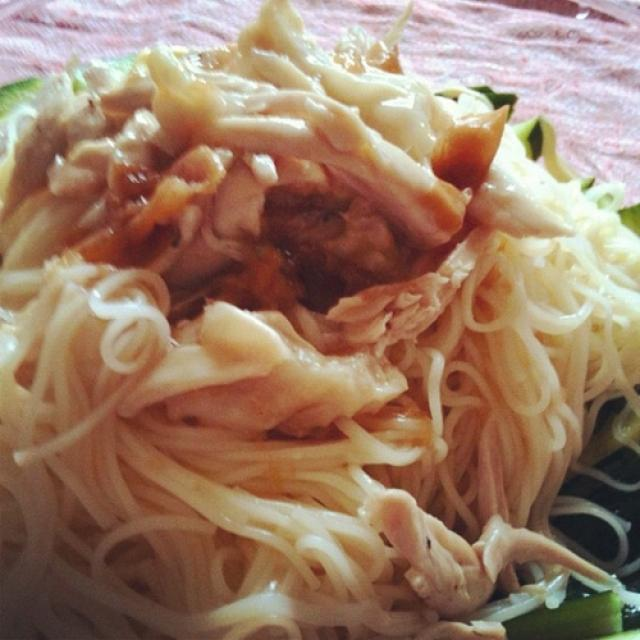面条主食: (5, 18, 620, 623)
